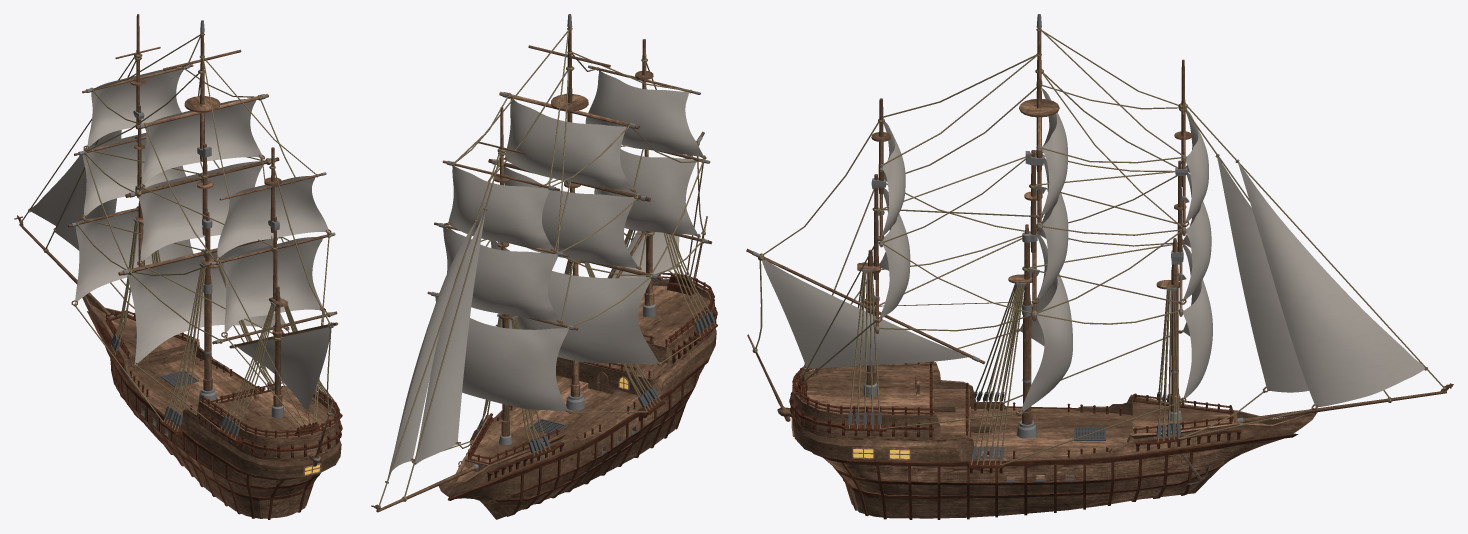
The model's file is PirateShip_Draco.glb.
3 views of the same model, side by side, from view 1: azimuth 30°, elevation 25°; view 2: azimuth 150°, elevation 25°; view 3: azimuth 270°, elevation 25° (orthographic). The views are drawn at different scales.
Visible parts, largest first — view 1: MainShip_MainShip_0, MainSail1_Sails_0, Ropes_Ropes_0, MizzenSail1_Sails_0, MainSail2_Sails_0, MainSail3_Sails_0, MizzenSail2_Sails_0, ForeSail1_Sails_0, ForeSail3_Sails_0, ForeSail2_Sails_0, BackJib_Sails_0, MainMast_Poles_0 (+15 smaller); view 2: MainShip_MainShip_0, MainSail1_Sails_0, ForeSail1_Sails_0, MainSail3_Sails_0, Jib_Sails_0, MainSail2_Sails_0, ForeSail2_Sails_0, Ropes_Ropes_0, MizzenSail2_Sails_0, ForeSail3_Sails_0, MizzenSail1_Sails_0, FlyingJib_Sails_0 (+15 smaller); view 3: MainShip_MainShip_0, FlyingJib_Sails_0, Ropes_Ropes_0, BackJib_Sails_0, Jib_Sails_0, MainMast_Poles_0, MainSail1_Sails_0, MainShrouds_Ropes_0, Cylinder.004_Details_0, ForeMast_Poles_0, KeelDetail_Details_0, ForeSail1_Sails_0 (+12 smaller).
Part boxes in pixels (left/top/right/bottom): MainShip_MainShip_0: left=82, top=294, right=342, bottom=518; MainSail1_Sails_0: left=127, top=237, right=287, bottom=365; Ropes_Ropes_0: left=21, top=34, right=331, bottom=429; MizzenSail1_Sails_0: left=223, top=237, right=322, bottom=334; MainSail2_Sails_0: left=138, top=161, right=262, bottom=262; MainSail3_Sails_0: left=141, top=99, right=262, bottom=186; MizzenSail2_Sails_0: left=217, top=176, right=328, bottom=259; ForeSail1_Sails_0: left=75, top=208, right=193, bottom=302; ForeSail3_Sails_0: left=87, top=68, right=183, bottom=148; ForeSail2_Sails_0: left=82, top=133, right=186, bottom=217; BackJib_Sails_0: left=237, top=327, right=329, bottom=411; MainMast_Poles_0: left=184, top=20, right=220, bottom=402; MainShip_MainShip_0: left=438, top=278, right=717, bottom=519; MainSail1_Sails_0: left=490, top=240, right=659, bottom=364; ForeSail1_Sails_0: left=435, top=295, right=569, bottom=411; MainSail3_Sails_0: left=504, top=98, right=632, bottom=191; Jib_Sails_0: left=414, top=213, right=485, bottom=465; MainSail2_Sails_0: left=503, top=166, right=637, bottom=268; ForeSail2_Sails_0: left=443, top=226, right=559, bottom=321; Ropes_Ropes_0: left=379, top=30, right=703, bottom=505; MizzenSail2_Sails_0: left=585, top=70, right=703, bottom=156; ForeSail3_Sails_0: left=448, top=165, right=553, bottom=249; MizzenSail1_Sails_0: left=594, top=149, right=697, bottom=235; FlyingJib_Sails_0: left=387, top=223, right=474, bottom=479; MainShip_MainShip_0: left=789, top=362, right=1317, bottom=518; FlyingJib_Sails_0: left=1238, top=162, right=1425, bottom=406; Ropes_Ropes_0: left=755, top=30, right=1443, bottom=465; BackJib_Sails_0: left=762, top=259, right=968, bottom=368; Jib_Sails_0: left=1217, top=157, right=1308, bottom=392; MainMast_Poles_0: left=1008, top=14, right=1059, bottom=438; MainSail1_Sails_0: left=1019, top=234, right=1072, bottom=414; MainShrouds_Ropes_0: left=970, top=283, right=1024, bottom=464; Cylinder.004_Details_0: left=792, top=361, right=1233, bottom=458; ForeMast_Poles_0: left=1156, top=59, right=1192, bottom=421; KeelDetail_Details_0: left=823, top=452, right=1193, bottom=519; ForeSail1_Sails_0: left=1182, top=244, right=1212, bottom=400.
Bounding box in the file's own units: 159 × 390 × 511.
10 materials, 10 textured.
